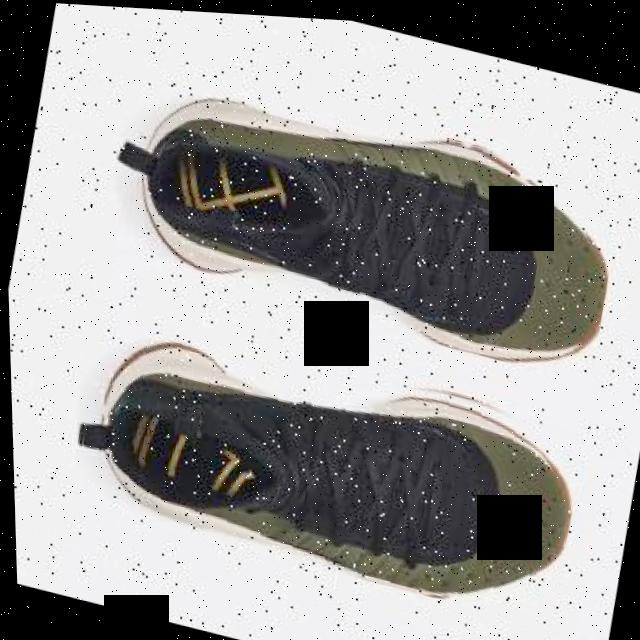shoe: (59, 292, 590, 623), (110, 59, 628, 378)
